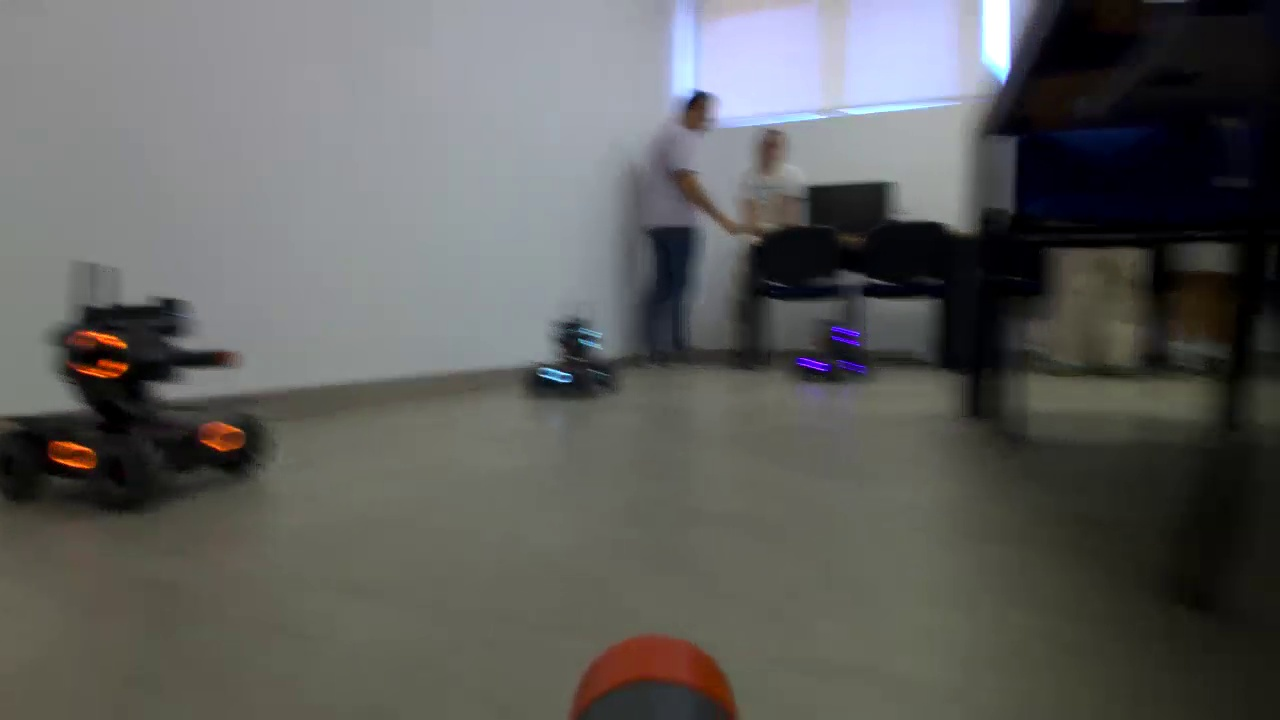robot: (13, 295, 270, 495), (540, 322, 598, 395), (803, 312, 865, 372)
